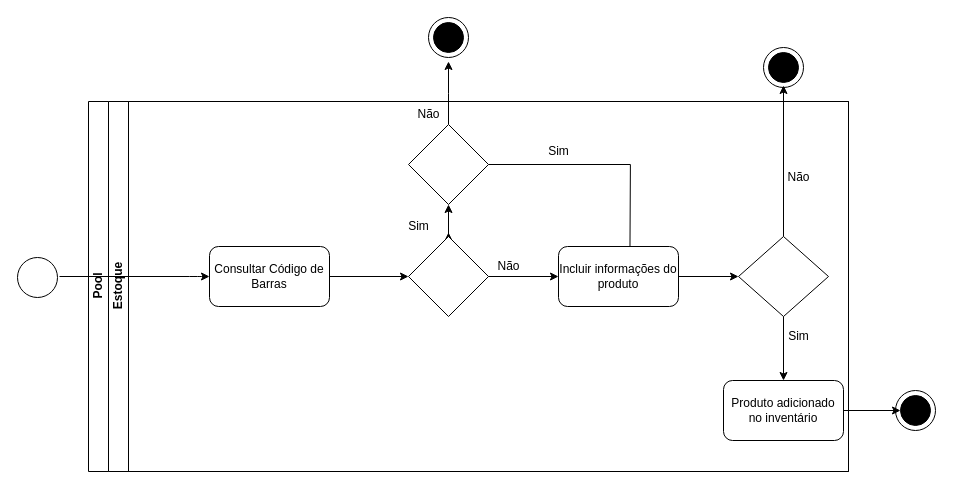
This 953x489 diagram has some shape labels left out. Here are the shapes that lost their labels. From the top down, the centre of each, then its label:
the point at 448,164: Editar?
the point at 448,276: Cadastrado?
the point at 783,276: Confirmar?
